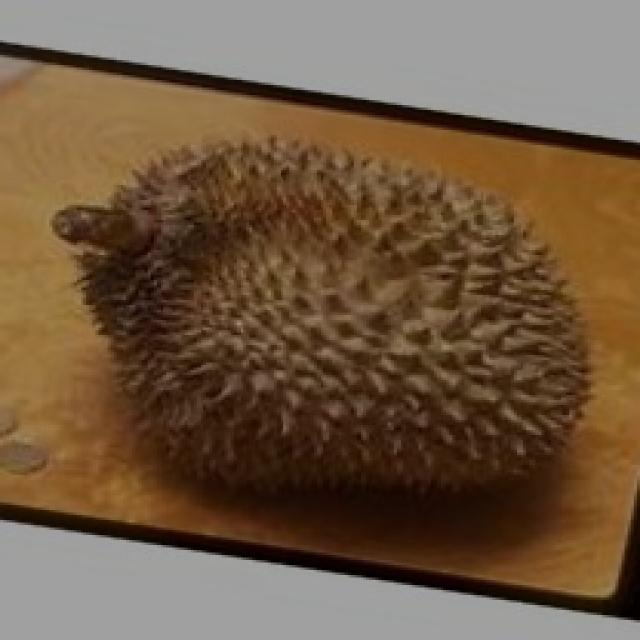fruit: (37, 120, 394, 528), (280, 155, 631, 555)
